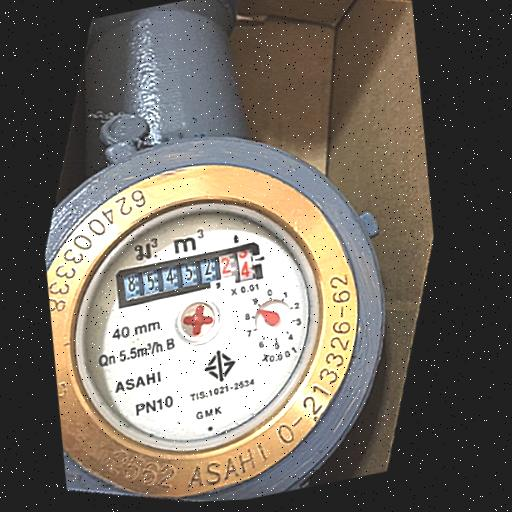2: (218, 253, 235, 279), (200, 259, 218, 283)
4: (235, 247, 255, 280), (161, 266, 179, 291)
5: (141, 270, 160, 295), (179, 261, 198, 286)
8: (121, 273, 141, 300)
border_water_meter_number: (112, 239, 268, 310)
